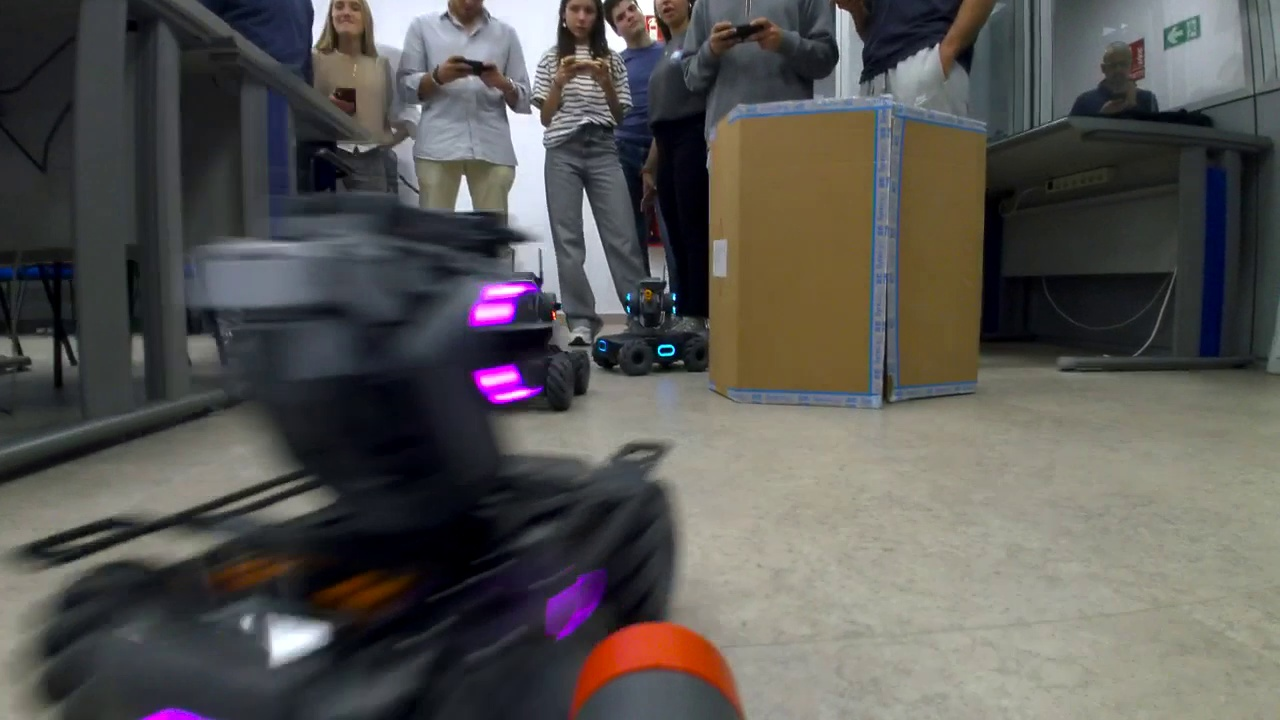robot: (592, 275, 709, 376)
